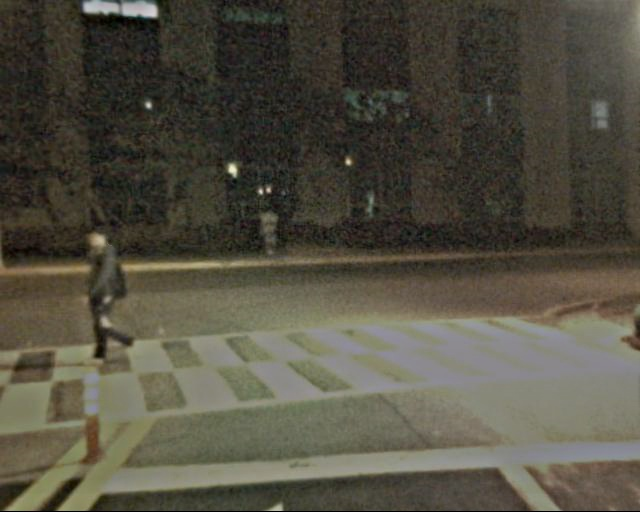person: (71, 230, 138, 374)
